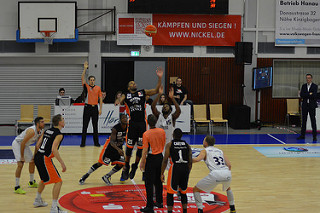basketball: (144, 24, 157, 38)
